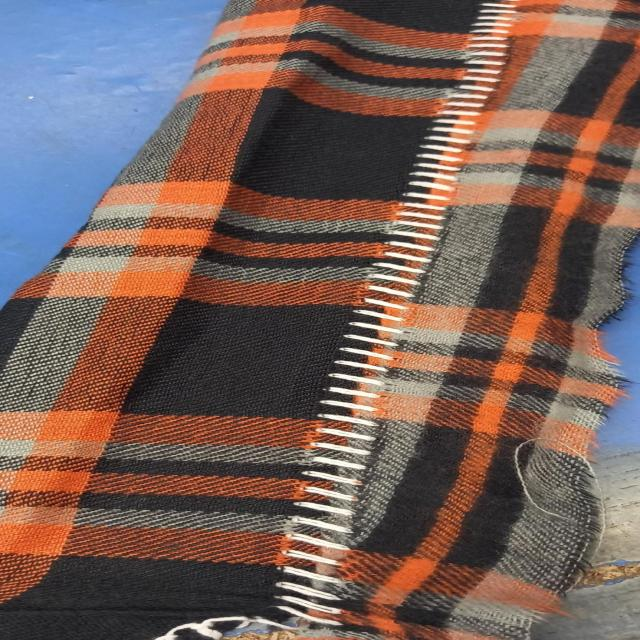gray stitch: (261, 258, 427, 640), (394, 1, 520, 258)
